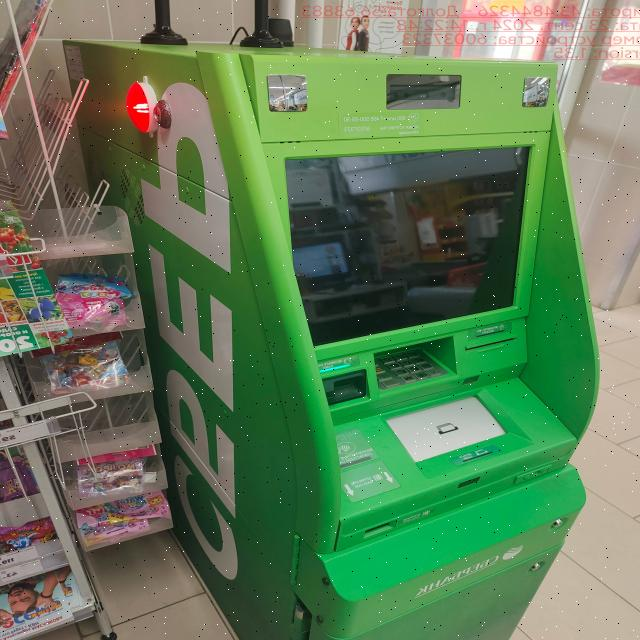bank: (56, 33, 594, 640)
